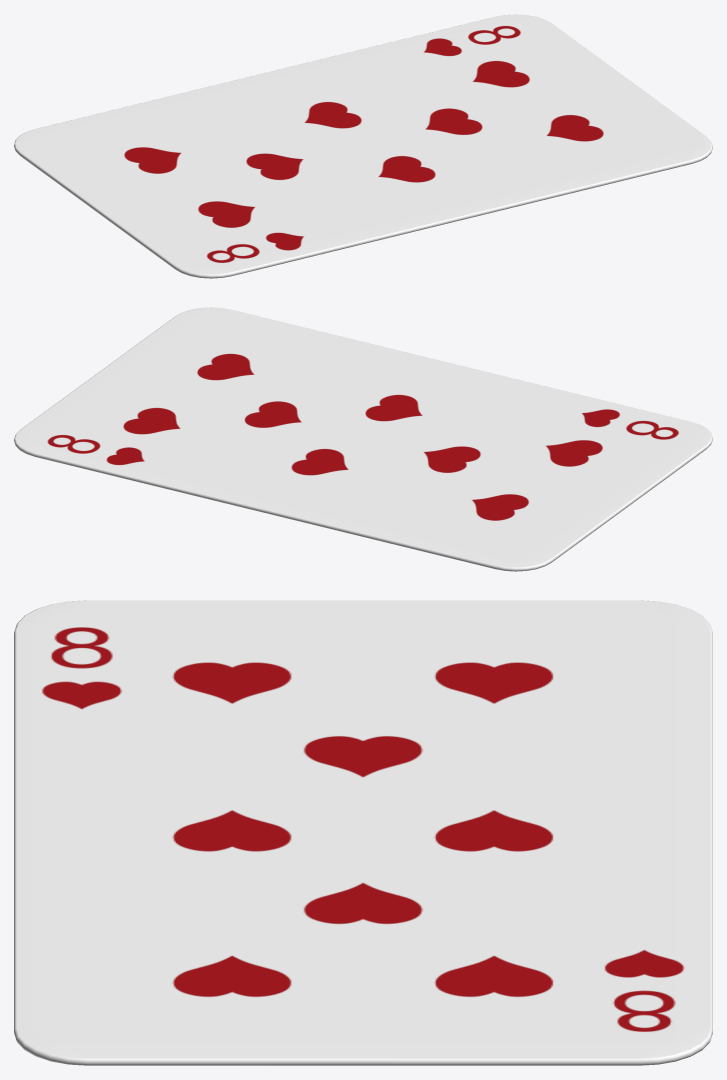
Rendered from card.glb.
The picture shows the model from 3 angles, top to bottom: view 1: azimuth 30°, elevation 25°; view 2: azimuth 150°, elevation 25°; view 3: azimuth 270°, elevation 25°; orthographic projection. The views are drawn at different scales.
Parts seen in each view (by area): view 1: PlayingCard001; view 2: PlayingCard001; view 3: PlayingCard001.
Boxes of the visible parts, <box> form: PlayingCard001: <box>14,14,712,278</box>; PlayingCard001: <box>14,307,712,571</box>; PlayingCard001: <box>14,600,712,1065</box>.
Size of the model in its own units: 0.089 by 0.00066 by 0.0571.
Materials: 1 (1 with a texture image).
